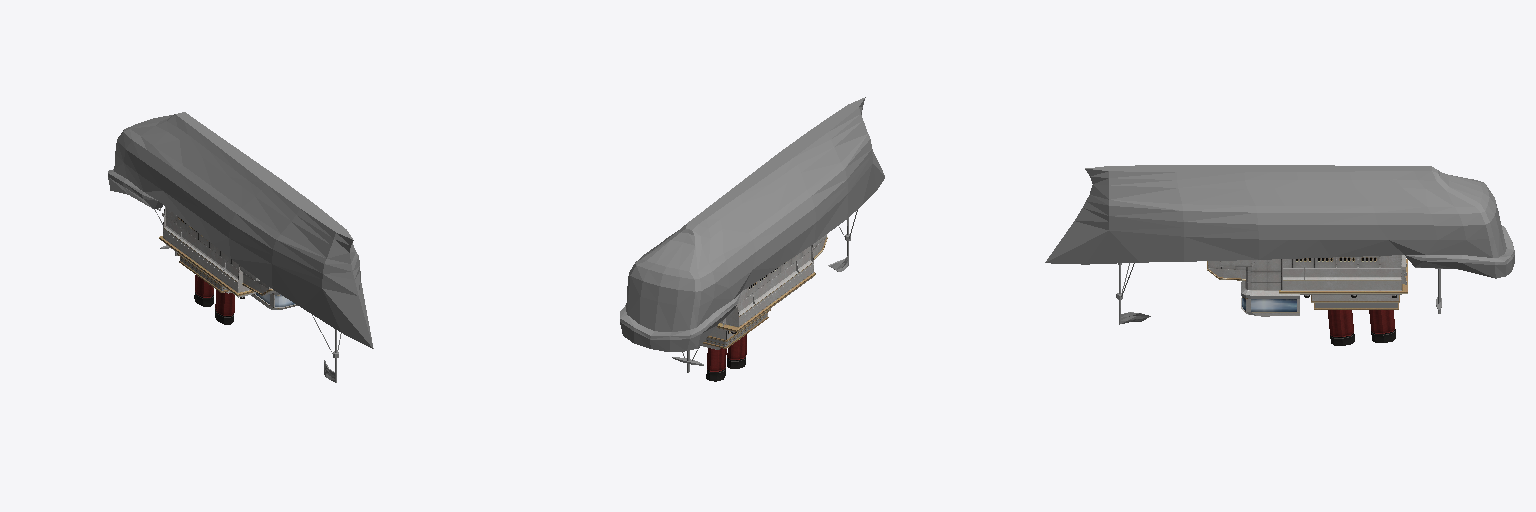
3 views of the same model, side by side, from view 1: azimuth 30°, elevation 25°; view 2: azimuth 150°, elevation 25°; view 3: azimuth 270°, elevation 25° (orthographic).
Visible parts, largest first — view 1: FerrymanShip_2, FerrymanShip_0, FerrymanShip_4, FerrymanShip_3, FerrymanShip_5, FerrymanShip_1; view 2: FerrymanShip_2, FerrymanShip_0, FerrymanShip_4, FerrymanShip_3, FerrymanShip_5, FerrymanShip_1; view 3: FerrymanShip_2, FerrymanShip_0, FerrymanShip_4, FerrymanShip_5, FerrymanShip_3, FerrymanShip_1.
Boxes of the visible parts, x1=… form: FerrymanShip_2: x1=114, y1=114, x2=373, y2=381; FerrymanShip_0: x1=108, y1=112, x2=352, y2=382; FerrymanShip_4: x1=162, y1=213, x2=297, y2=309; FerrymanShip_3: x1=194, y1=275, x2=294, y2=324; FerrymanShip_5: x1=163, y1=207, x2=294, y2=309; FerrymanShip_1: x1=159, y1=228, x2=293, y2=308; FerrymanShip_2: x1=626, y1=97, x2=884, y2=331; FerrymanShip_0: x1=620, y1=98, x2=864, y2=372; FerrymanShip_4: x1=701, y1=239, x2=825, y2=349; FerrymanShip_3: x1=706, y1=332, x2=746, y2=381; FerrymanShip_5: x1=701, y1=234, x2=826, y2=349; FerrymanShip_1: x1=703, y1=237, x2=827, y2=348; FerrymanShip_2: x1=1045, y1=167, x2=1506, y2=323; FerrymanShip_0: x1=1085, y1=165, x2=1514, y2=324; FerrymanShip_4: x1=1209, y1=255, x2=1405, y2=314; FerrymanShip_5: x1=1208, y1=255, x2=1406, y2=316; FerrymanShip_3: x1=1242, y1=295, x2=1396, y2=345; FerrymanShip_1: x1=1207, y1=259, x2=1407, y2=312.
Size of the model in its own units: 1.27 by 2.47 by 6.04.
6 materials, 4 textured.